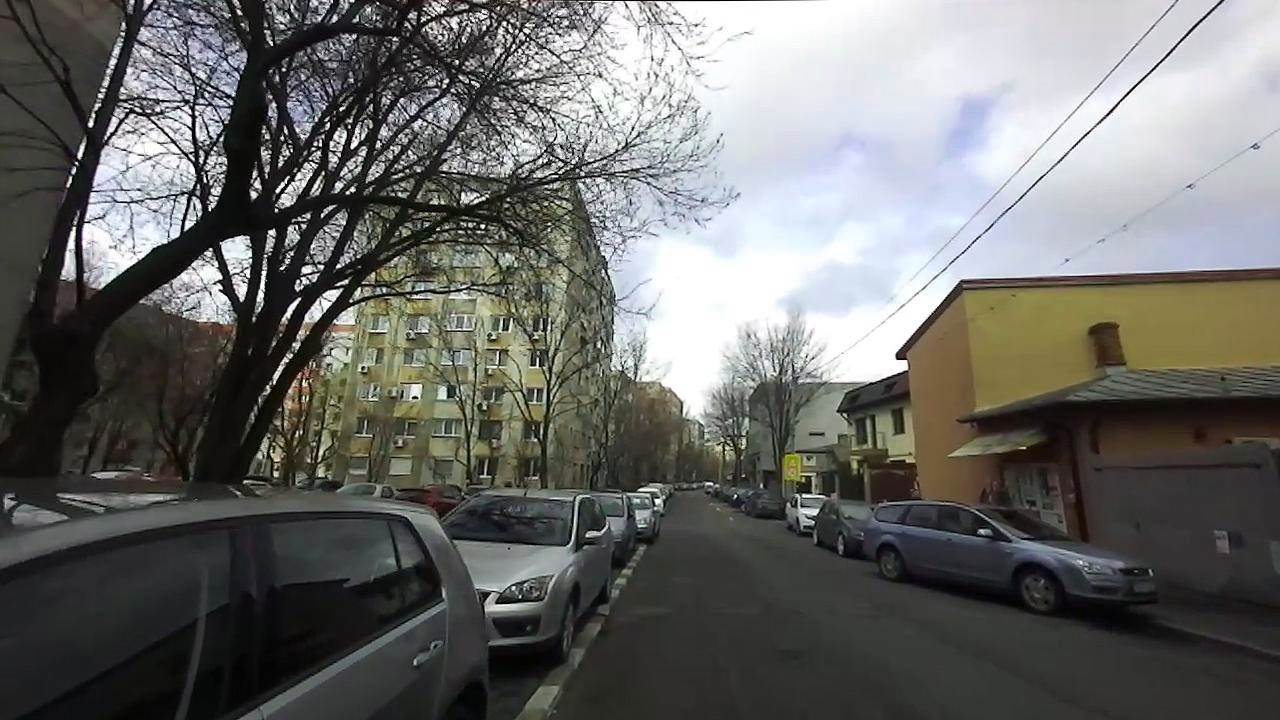pothole: (771, 640, 814, 663)
